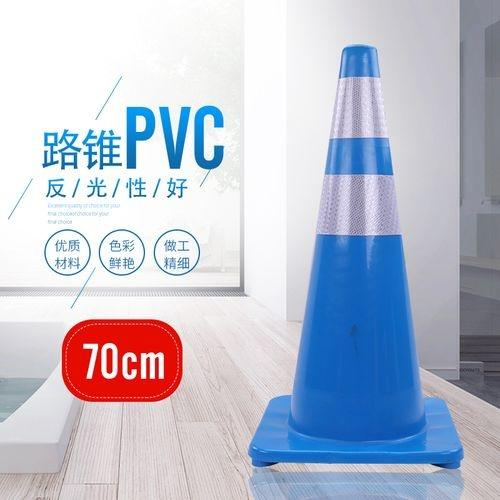cone_barrel: (268, 49, 437, 460)
